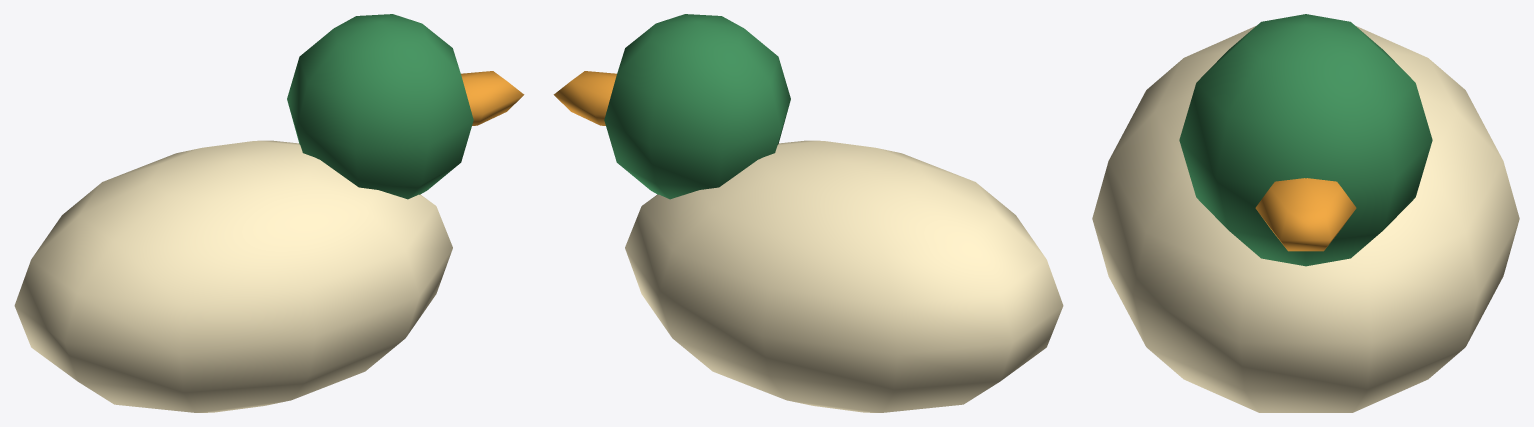
File: duck.glb
3 views of the same model, side by side, from view 1: azimuth 30°, elevation 25°; view 2: azimuth 150°, elevation 25°; view 3: azimuth 270°, elevation 25° (orthographic). The views are drawn at different scales.
Visible parts, largest first — view 1: duck; view 2: duck; view 3: duck.
Boxes of the visible parts, left/top/right/bottom form: duck: left=14, top=14, right=524, bottom=412; duck: left=553, top=14, right=1063, bottom=412; duck: left=1092, top=14, right=1519, bottom=412.
Bounding box in the file's own units: 0.454 × 0.305 × 0.27.
